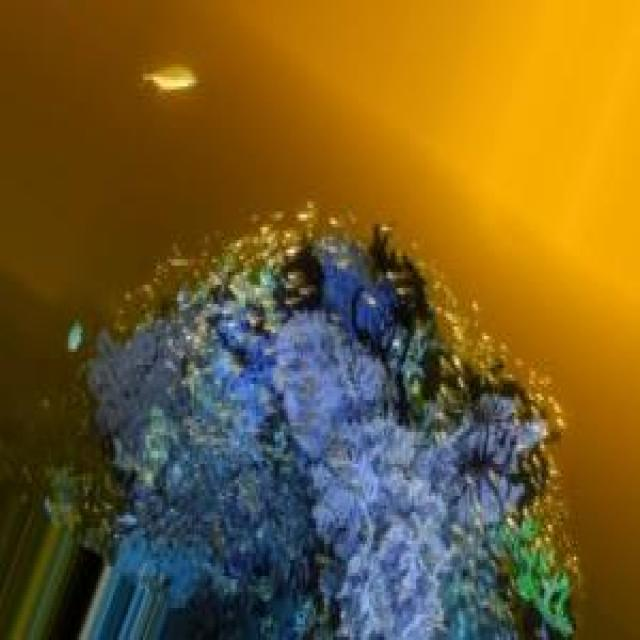Healthy: (86, 212, 579, 640)
